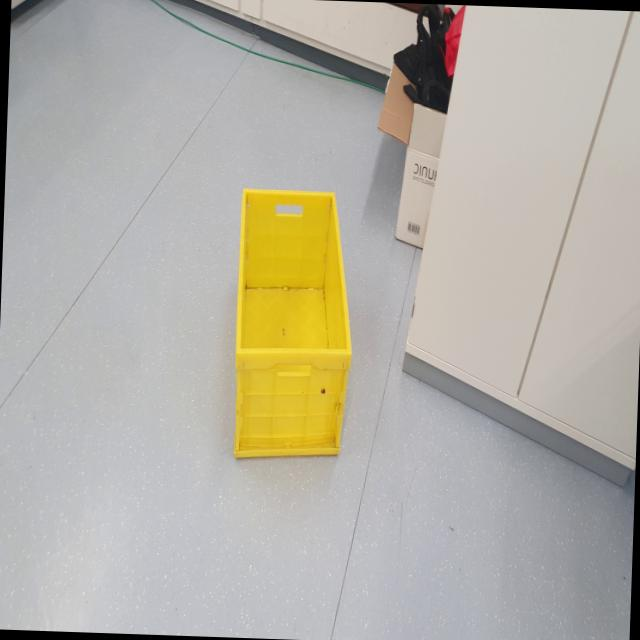box: (220, 170, 362, 474)
